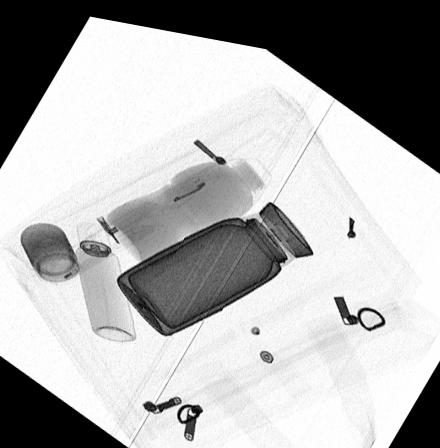Sprayer: (76, 218, 136, 338)
